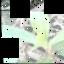Purslane: (1, 10, 64, 64)
